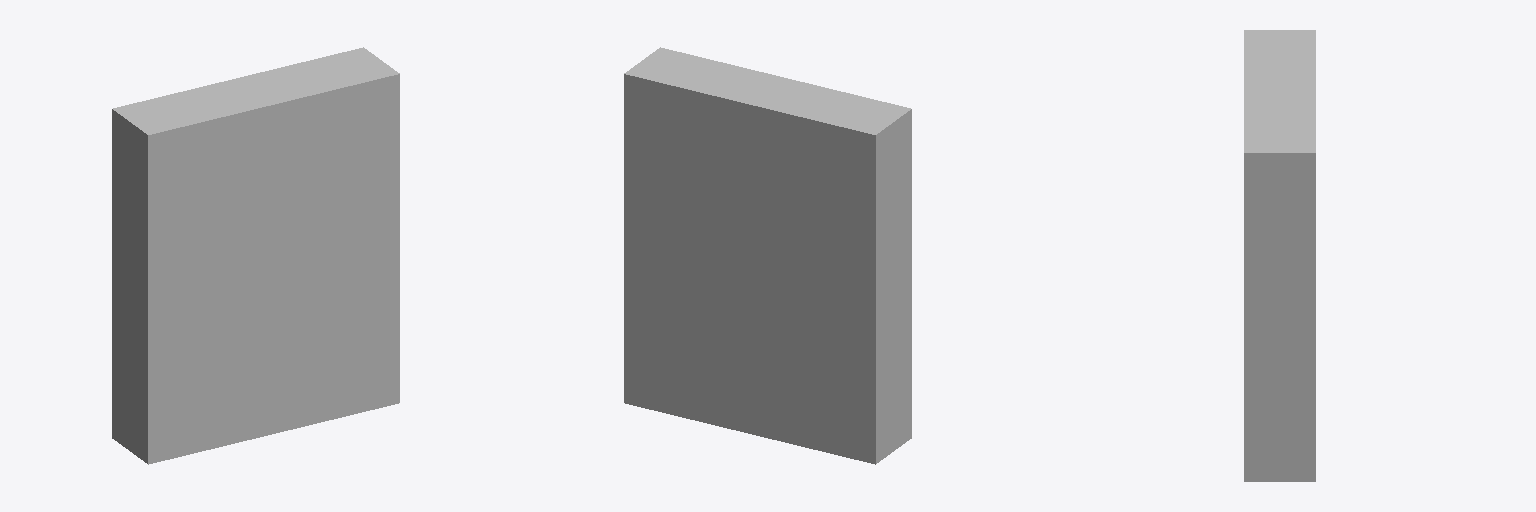
File: Nether Portal.obj
3 views of the same model, side by side, from view 1: azimuth 30°, elevation 25°; view 2: azimuth 150°, elevation 25°; view 3: azimuth 270°, elevation 25° (orthographic).
Visible parts, largest first — view 1: SubMesh_0; view 2: SubMesh_0; view 3: SubMesh_0.
Boxes of the visible parts, x1,y1,x2,y2 form: SubMesh_0: [112, 47, 399, 464]; SubMesh_0: [624, 47, 911, 464]; SubMesh_0: [1244, 30, 1315, 481].
Size of the model in its own units: 6.67 by 8.33 by 1.67.